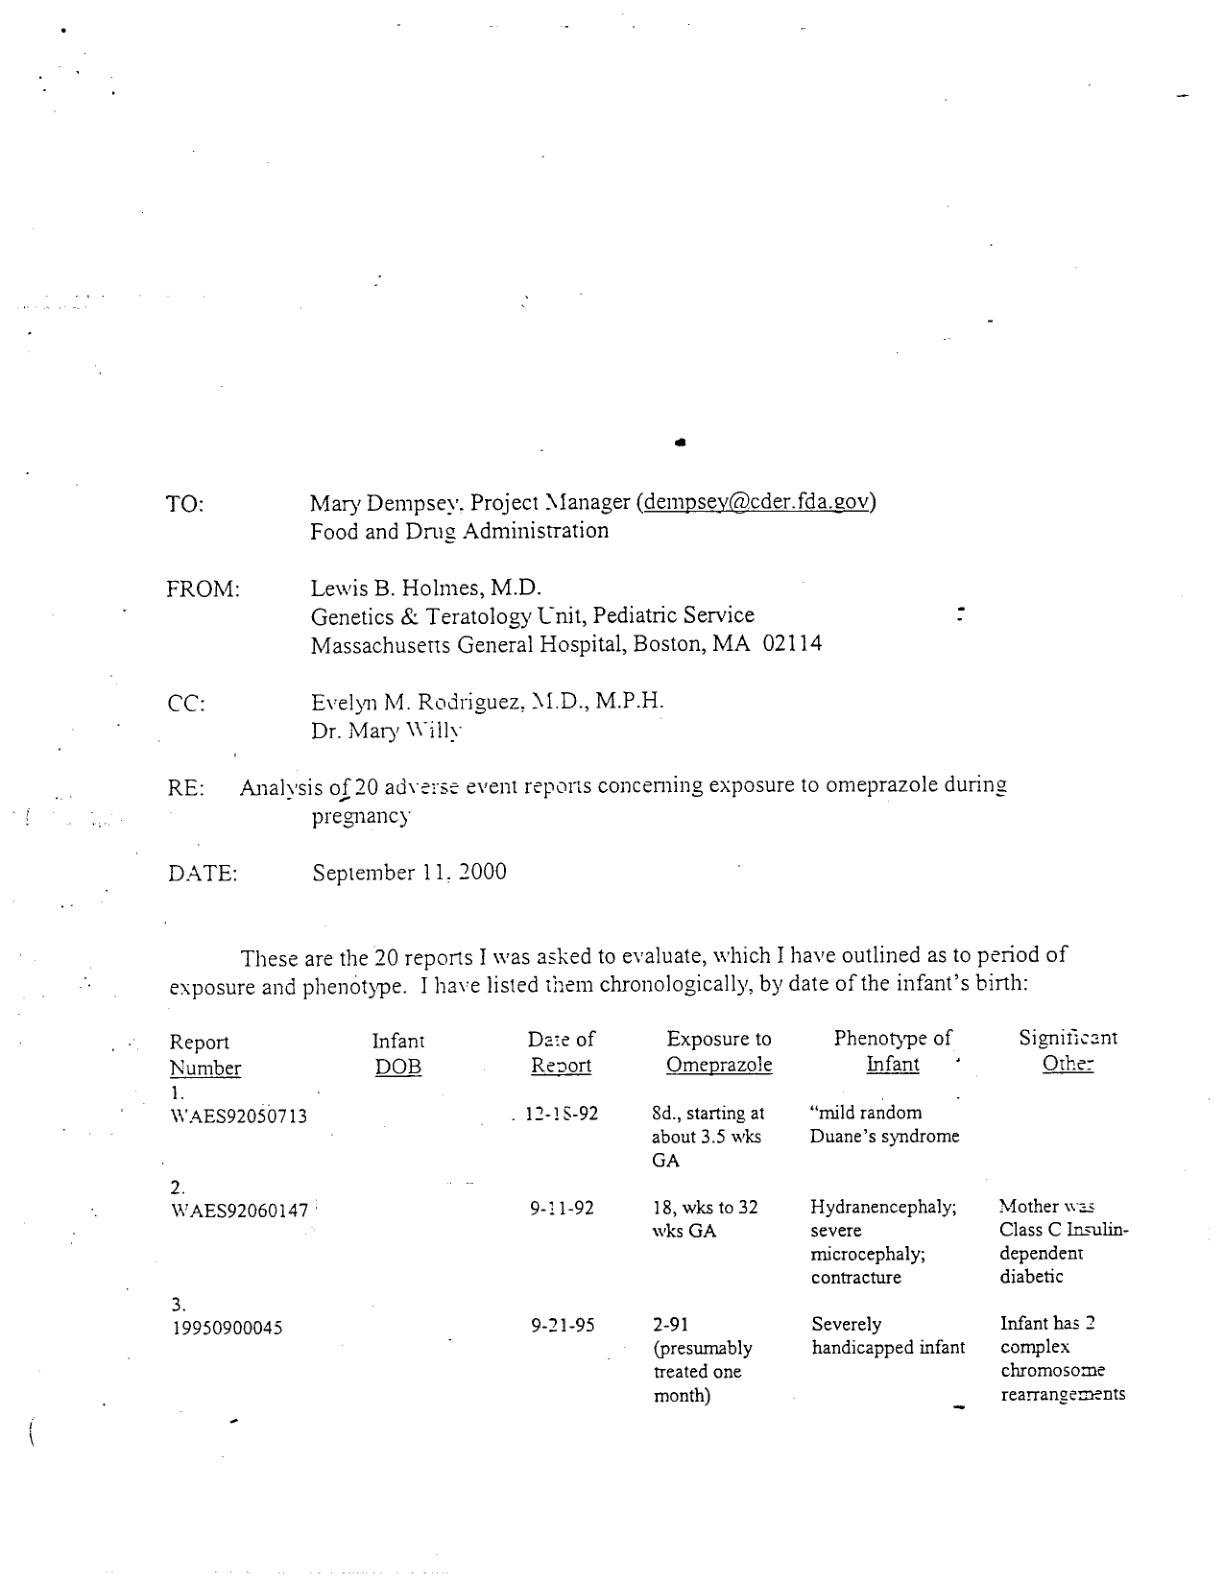nolines: (167, 1031, 1129, 1407), (162, 489, 1008, 883)
